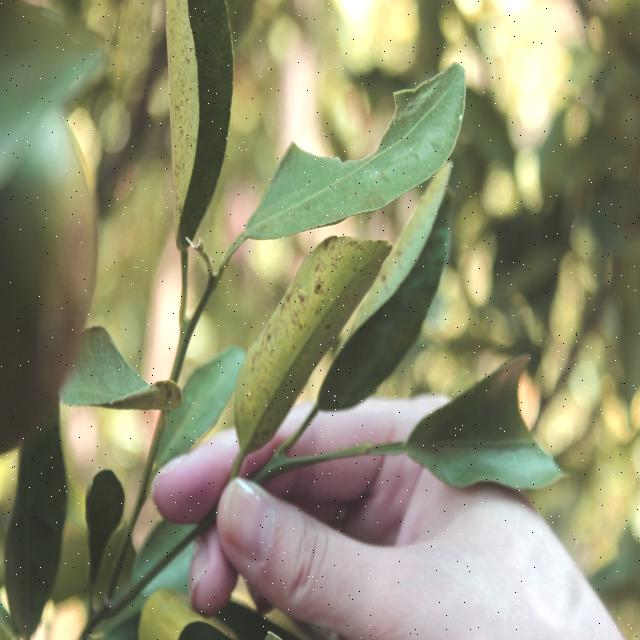melanose: (228, 225, 389, 450), (160, 0, 242, 236), (84, 347, 188, 431)
